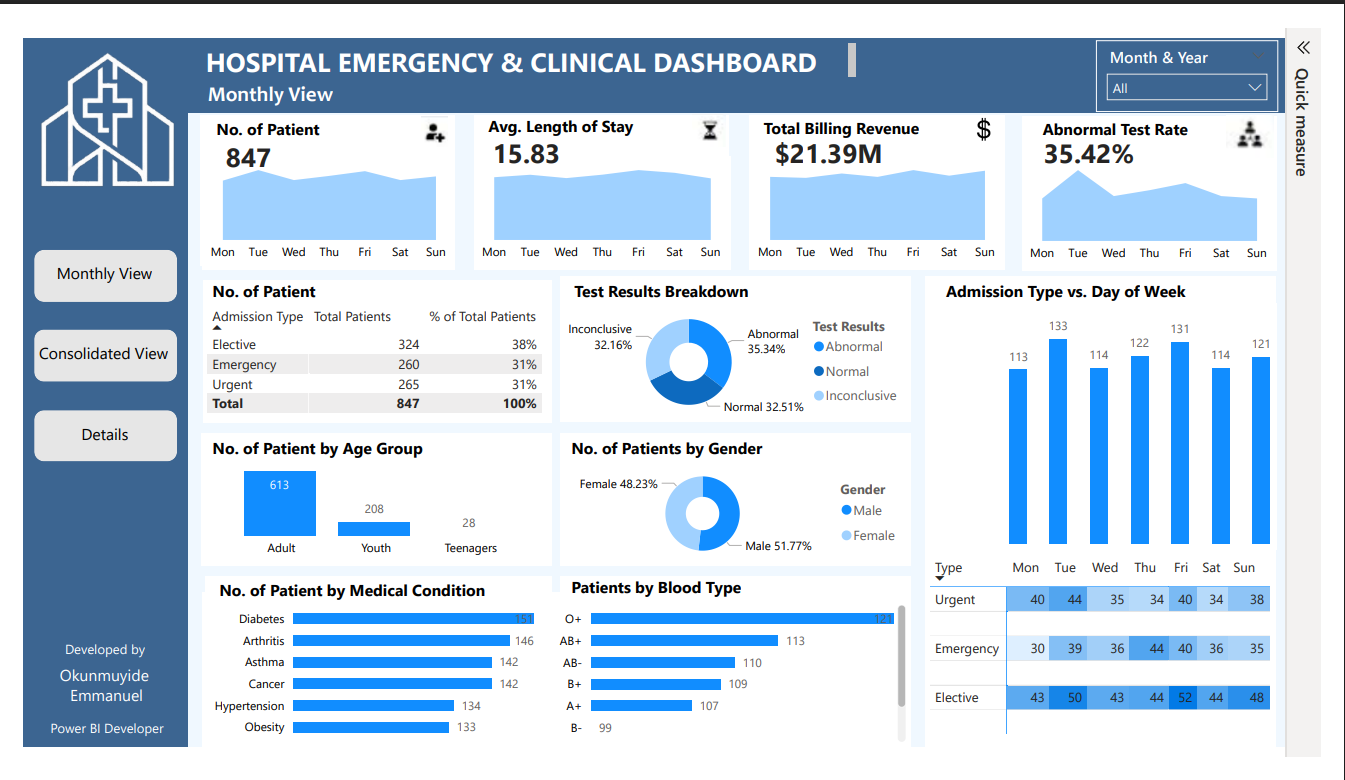

Layout of this report page (visuals, bound fields, positions):
{"tool":"powerbi","page":{"name":"Monthly View","canvas":[1280,720],"ordinal":0},"visuals":[{"type":"shape","box":[0,0,167.4,720.4],"z":0},{"type":"shape","box":[152.9,0,1127.5,75.8],"z":1000},{"type":"textbox","box":[179.8,0,670.1,45.2],"z":2000},{"type":"textbox","box":[182.2,39.1,204.2,42.8],"z":3000},{"type":"shape","box":[11.2,215,145,52.5],"z":4000},{"type":"shape","box":[11.2,296.2,145,52.5],"z":5000},{"type":"shape","box":[11.2,377.5,145,52.5],"z":6000},{"type":"textbox","box":[28.8,222.5,123.8,42.5],"z":7000},{"type":"textbox","box":[11.2,303.8,158.8,42.5],"z":8000},{"type":"textbox","box":[53.8,386.2,75,42.5],"z":9000},{"type":"shape","box":[179.8,78.3,258,152.9],"z":10000},{"type":"shape","box":[1012.5,79.5,258,156.5],"z":11000},{"type":"shape","box":[457.3,78.3,258,156.5],"z":12000},{"type":"textbox","box":[1028.8,75.8,237.5,46.2],"z":13000},{"type":"textbox","box":[190.8,75.8,154.1,40.4],"z":14000},{"type":"lineChart","fields":{"Category":["healthcare_dataset.Admission Day"],"Y":["DAX Measures.Abnormal Results Count"]},"box":[1012.5,119.8,258,116.2],"z":15000},{"type":"textbox","box":[467.1,73.4,172.4,35.5],"z":16000},{"type":"cardVisual","fields":{"Data":["DAX Measures.Abnormal Rate %"]},"box":[1015,73.4,132.1,70.9],"z":17000},{"type":"shape","box":[182.2,245.8,353.4,144.3],"z":18000},{"type":"lineChart","fields":{"Y":["DAX Measures.Total Patients"],"Category":["healthcare_dataset.Admission Day"]},"box":[182.2,119.8,255.6,114.9],"z":19000},{"type":"lineChart","fields":{"Y":["DAX Measures.Avg Length of Stay"],"Category":["healthcare_dataset.Admission Day"]},"box":[457.3,119.8,259.2,114.9],"z":20000},{"type":"shape","box":[736.1,78.3,259.2,156.5],"z":21000},{"type":"cardVisual","fields":{"Data":["DAX Measures.Total Patients"]},"box":[188.3,77,81.9,62.4],"z":22000},{"type":"cardVisual","fields":{"Data":["DAX Measures.Avg Length of Stay"]},"box":[457.3,73.4,107.6,72.1],"z":23000},{"type":"pivotTable","fields":{"Values":["DAX Measures.Total Patients","DAX Measures.% of Total Patients"],"Rows":["healthcare_dataset.Admission Type"]},"box":[182.2,266.6,353.4,123.5],"z":24000},{"type":"textbox","box":[745.9,74.6,207.9,44],"z":25000},{"type":"lineChart","fields":{"Category":["healthcare_dataset.Admission Day"],"Y":["DAX Measures.Avg Billing"]},"box":[737.4,119.8,258,114.9],"z":26000},{"type":"cardVisual","fields":{"Data":["DAX Measures.Total Billing"]},"box":[733.7,73.4,166.3,70.9],"z":27000},{"type":"shape","box":[184.6,546.6,324.1,173.6],"z":28000},{"type":"clusteredBarChart","fields":{"Y":["DAX Measures.Total Patients"],"Category":["healthcare_dataset.Medical Condition"]},"box":[184.6,562.3,321.6,157.7],"z":29000},{"type":"textbox","box":[184.6,546.6,314.3,41.6],"z":30000},{"type":"textbox","box":[187.1,240.9,157.7,41.6],"z":31000},{"type":"shape","box":[179.8,401.1,355.8,134.5],"z":32000},{"type":"clusteredColumnChart","fields":{"Category":["healthcare_dataset.Age Group"],"Y":["DAX Measures.Total Patients"]},"box":[179.8,425.5,355.8,110.1],"z":33000},{"type":"textbox","box":[187.1,400.9,314.3,41.6],"z":34000},{"type":"shape","box":[184.6,546.6,351,173.6],"z":35000},{"type":"clusteredBarChart","fields":{"Y":["DAX Measures.Total Patients"],"Category":["healthcare_dataset.Medical Condition"]},"box":[182.2,562.5,341.2,157.7],"z":36000},{"type":"textbox","box":[194.4,545.4,314.3,41.6],"z":37000},{"type":"shape","box":[544.2,242.1,355.8,144.3],"z":38000},{"type":"donutChart","fields":{"Y":["DAX Measures.Total Patients"],"Category":["healthcare_dataset.Test Results"]},"box":[544.2,267.8,355.8,122.3],"z":39000},{"type":"textbox","box":[553.9,240.9,231.1,41.6],"z":40000},{"type":"shape","box":[544.2,401.1,355.8,134.5],"z":41000},{"type":"donutChart","fields":{"Y":["DAX Measures.Total Patients"],"Category":["healthcare_dataset.Gender"]},"box":[544.2,430.4,355.8,105.2],"z":42000},{"type":"textbox","box":[551.5,399.9,231.1,41.6],"z":43000},{"type":"shape","box":[544.2,546.6,355.8,173.6],"z":44000},{"type":"textbox","box":[601.6,549.8,314.3,41.6],"z":45000},{"type":"shape","box":[544.2,546.6,355.8,173.6],"z":46000},{"type":"clusteredBarChart","fields":{"Y":["DAX Measures.Total Patients"],"Category":["healthcare_dataset.Blood Type"]},"box":[535.6,562.5,364.4,157.7],"z":47000},{"type":"textbox","box":[551.5,541.7,314.3,41.6],"z":48000},{"type":"shape","box":[914.7,242.1,355.8,478.1],"z":49000},{"type":"columnChart","fields":{"Category":["healthcare_dataset.Admission Day"],"Y":["DAX Measures.Total Patients"]},"box":[995.4,269,275.1,250.7],"z":50000},{"type":"pivotTable","fields":{"Values":["DAX Measures.Total Patients"],"Rows":["healthcare_dataset.Admission Type"],"Columns":["healthcare_dataset.Admission Day"]},"box":[914.7,519.7,355.8,200.5],"z":51000},{"type":"textbox","box":[930.6,240.9,277.6,41.6],"z":52000},{"type":"slicer","fields":{"Values":["healthcare_dataset.Month & Year"]},"box":[1088.3,2.4,184.6,72.1],"z":53000},{"type":"image","box":[1.2,2.4,167.5,157.7],"z":54000},{"type":"image","box":[395,74.6,42.8,40.4],"z":55000},{"type":"image","box":[673.8,67.3,42.8,51.4],"z":56000},{"type":"image","box":[953.8,75.8,39.1,34.2],"z":57000},{"type":"image","box":[1215.5,63.6,57.5,70.9],"z":58000},{"type":"textbox","box":[29.3,606.5,107.6,34.2],"z":59000},{"type":"textbox","box":[25.7,631,117.4,59.9],"z":60000},{"type":"textbox","box":[2.4,687,165.1,33],"z":61000}]}

Visuals, with their boxes on the page's 1280x720 design canvas (x1, y1, x2, y2). These are canvas units, not pixel positions in the 1345x780 screenshot, which may show the page scaled, cropped or inside an application window:
shape: x1=0, y1=0, x2=167, y2=720
shape: x1=153, y1=0, x2=1280, y2=76
textbox: x1=180, y1=0, x2=850, y2=45
textbox: x1=182, y1=39, x2=386, y2=82
shape: x1=11, y1=215, x2=156, y2=268
shape: x1=11, y1=296, x2=156, y2=349
shape: x1=11, y1=378, x2=156, y2=430
textbox: x1=29, y1=222, x2=153, y2=265
textbox: x1=11, y1=304, x2=170, y2=346
textbox: x1=54, y1=386, x2=129, y2=429
shape: x1=180, y1=78, x2=438, y2=231
shape: x1=1012, y1=80, x2=1270, y2=236
shape: x1=457, y1=78, x2=715, y2=235
textbox: x1=1029, y1=76, x2=1266, y2=122
textbox: x1=191, y1=76, x2=345, y2=116
lineChart - healthcare_dataset.Admission Day x DAX Measures.Abnormal Results Count: x1=1012, y1=120, x2=1270, y2=236
textbox: x1=467, y1=73, x2=640, y2=109
cardVisual - DAX Measures.Abnormal Rate %: x1=1015, y1=73, x2=1147, y2=144
shape: x1=182, y1=246, x2=536, y2=390
lineChart - DAX Measures.Total Patients x healthcare_dataset.Admission Day: x1=182, y1=120, x2=438, y2=235
lineChart - DAX Measures.Avg Length of Stay x healthcare_dataset.Admission Day: x1=457, y1=120, x2=716, y2=235
shape: x1=736, y1=78, x2=995, y2=235
cardVisual - DAX Measures.Total Patients: x1=188, y1=77, x2=270, y2=139
cardVisual - DAX Measures.Avg Length of Stay: x1=457, y1=73, x2=565, y2=146
pivotTable - DAX Measures.Total Patients x DAX Measures.% of Total Patients: x1=182, y1=267, x2=536, y2=390
textbox: x1=746, y1=75, x2=954, y2=119
lineChart - healthcare_dataset.Admission Day x DAX Measures.Avg Billing: x1=737, y1=120, x2=995, y2=235
cardVisual - DAX Measures.Total Billing: x1=734, y1=73, x2=900, y2=144
shape: x1=185, y1=547, x2=509, y2=720
clusteredBarChart - DAX Measures.Total Patients x healthcare_dataset.Medical Condition: x1=185, y1=562, x2=506, y2=720
textbox: x1=185, y1=547, x2=499, y2=588
textbox: x1=187, y1=241, x2=345, y2=282
shape: x1=180, y1=401, x2=536, y2=536
clusteredColumnChart - healthcare_dataset.Age Group x DAX Measures.Total Patients: x1=180, y1=426, x2=536, y2=536
textbox: x1=187, y1=401, x2=501, y2=442
shape: x1=185, y1=547, x2=536, y2=720
clusteredBarChart - DAX Measures.Total Patients x healthcare_dataset.Medical Condition: x1=182, y1=562, x2=523, y2=720
textbox: x1=194, y1=545, x2=509, y2=587
shape: x1=544, y1=242, x2=900, y2=386
donutChart - DAX Measures.Total Patients x healthcare_dataset.Test Results: x1=544, y1=268, x2=900, y2=390
textbox: x1=554, y1=241, x2=785, y2=282
shape: x1=544, y1=401, x2=900, y2=536
donutChart - DAX Measures.Total Patients x healthcare_dataset.Gender: x1=544, y1=430, x2=900, y2=536
textbox: x1=552, y1=400, x2=783, y2=442
shape: x1=544, y1=547, x2=900, y2=720
textbox: x1=602, y1=550, x2=916, y2=591
shape: x1=544, y1=547, x2=900, y2=720
clusteredBarChart - DAX Measures.Total Patients x healthcare_dataset.Blood Type: x1=536, y1=562, x2=900, y2=720
textbox: x1=552, y1=542, x2=866, y2=583
shape: x1=915, y1=242, x2=1270, y2=720
columnChart - healthcare_dataset.Admission Day x DAX Measures.Total Patients: x1=995, y1=269, x2=1270, y2=520
pivotTable - DAX Measures.Total Patients x healthcare_dataset.Admission Type: x1=915, y1=520, x2=1270, y2=720
textbox: x1=931, y1=241, x2=1208, y2=282
slicer - healthcare_dataset.Month & Year: x1=1088, y1=2, x2=1273, y2=74
image: x1=1, y1=2, x2=169, y2=160
image: x1=395, y1=75, x2=438, y2=115
image: x1=674, y1=67, x2=717, y2=119
image: x1=954, y1=76, x2=993, y2=110
image: x1=1216, y1=64, x2=1273, y2=134
textbox: x1=29, y1=606, x2=137, y2=641
textbox: x1=26, y1=631, x2=143, y2=691
textbox: x1=2, y1=687, x2=168, y2=720
